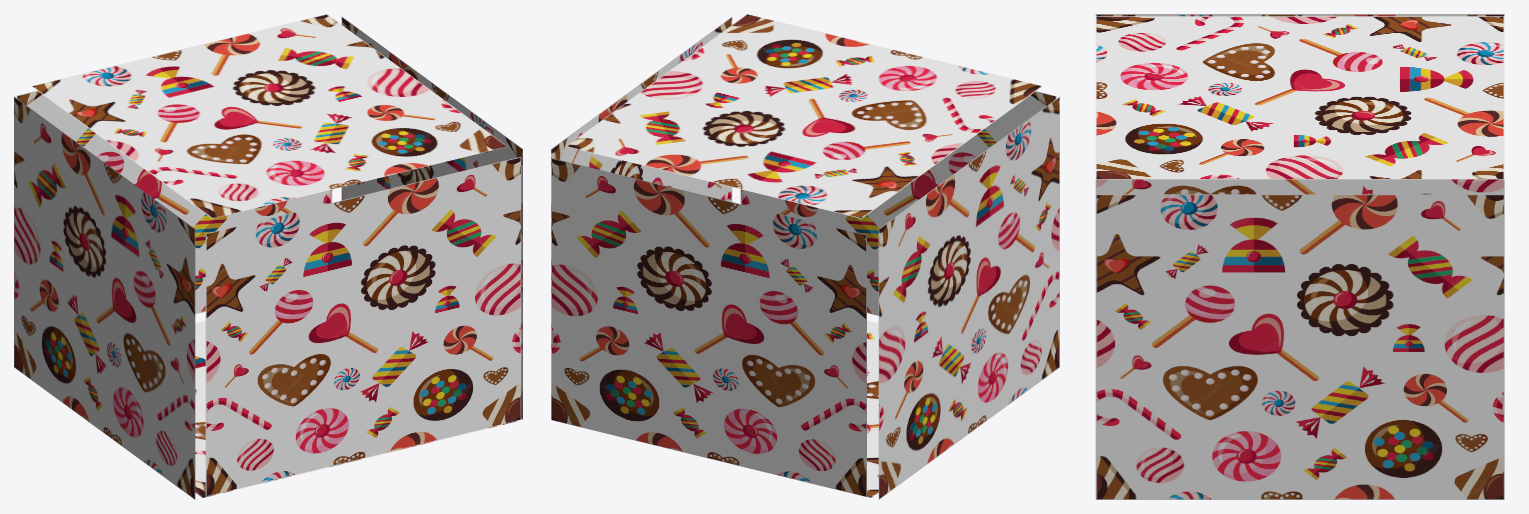
The model's file is pattern4-9x9x5.gltf.
3 views of the same model, side by side, from view 1: azimuth 30°, elevation 25°; view 2: azimuth 150°, elevation 25°; view 3: azimuth 270°, elevation 25° (orthographic). The views are drawn at different scales.
Parts seen in each view (by area): view 1: Cube.005; view 2: Cube.005; view 3: Cube.005.
Part boxes in pixels (bbox=[...]): Cube.005: bbox=[14, 14, 522, 499]; Cube.005: bbox=[551, 14, 1059, 499]; Cube.005: bbox=[1095, 14, 1504, 499].
Size of the model in its own units: 3 by 2.43 by 3.
Materials: 1 (1 with a texture image).
